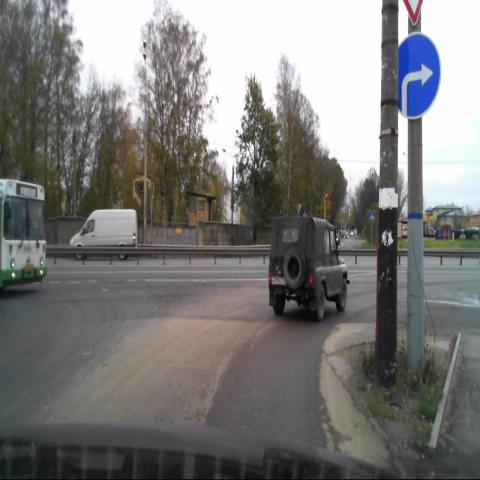4_1_2: (392, 34, 440, 119)
